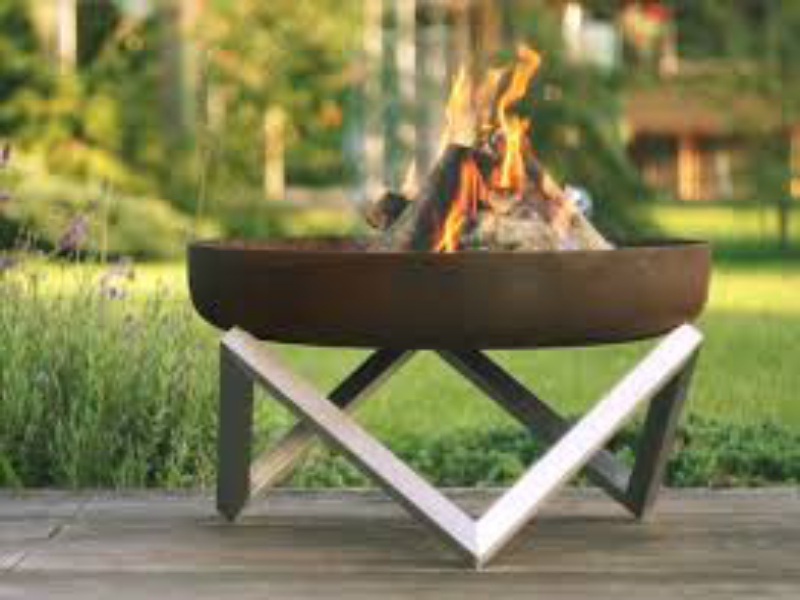fire: (394, 39, 543, 256)
